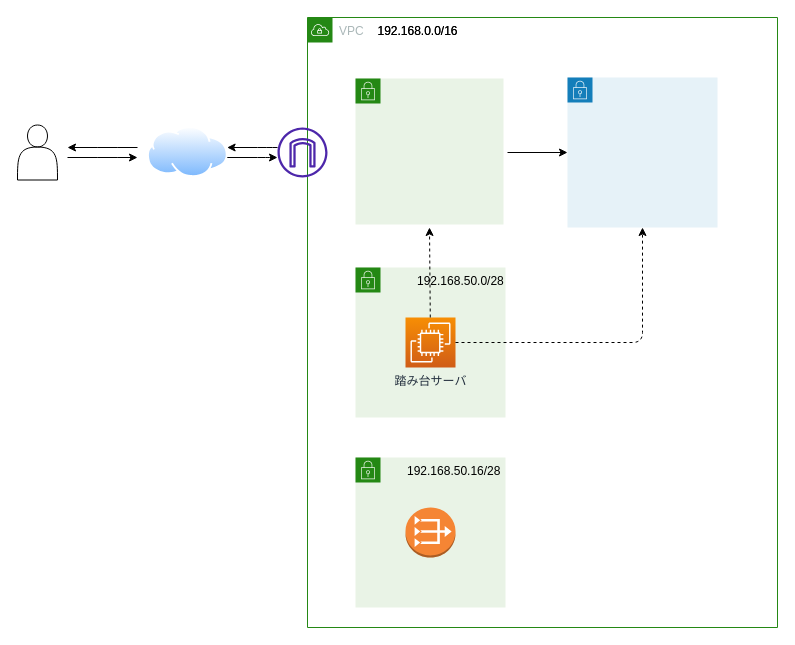
The diagram is 795 pixels wide and 645 high, and some of its shapes have lost their labels. The centre of each missing label's shape, as x and y in pixels:
NAT gateway: (430,532)
Public subnet: (429,151)
